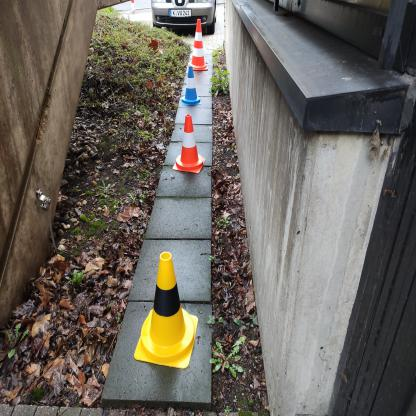Cones_big: (191, 17, 210, 76)
Cones_small_blue: (178, 62, 203, 111)
Cones_small_orange: (176, 109, 207, 181)
Cones_small_yellow: (132, 246, 201, 377)
